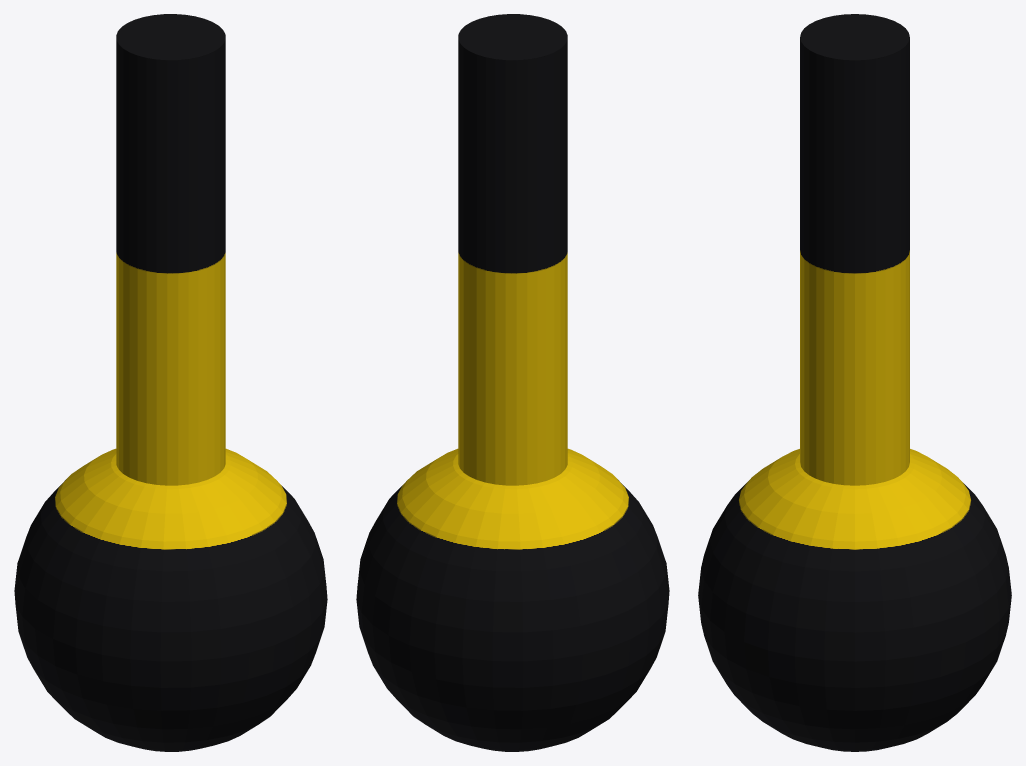
File: buoy_east.fbx
The picture shows the model from 3 angles, left to right: view 1: azimuth 30°, elevation 25°; view 2: azimuth 150°, elevation 25°; view 3: azimuth 270°, elevation 25°; orthographic projection.
Visible parts, largest first — view 1: Sphere.004, Cylinder.022; view 2: Sphere.004, Cylinder.022; view 3: Sphere.004, Cylinder.022.
Part boxes in pixels (box(x1,y1,x2,y2)): Sphere.004: box(14, 448, 327, 751); Cylinder.022: box(116, 14, 225, 485); Sphere.004: box(356, 448, 669, 751); Cylinder.022: box(458, 14, 567, 485); Sphere.004: box(698, 449, 1011, 751); Cylinder.022: box(800, 14, 909, 485).
Bounding box in the file's own units: 40 × 98.5 × 40.
Materials: 2 (2 with a texture image).
